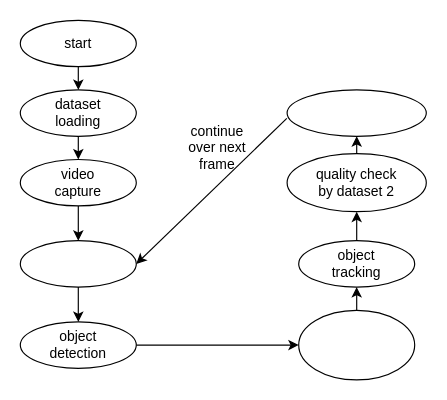
Some shapes in this 447 by 400 pixel diagram are drawn without their labels. The centre of each missing label's shape, as x and y in pixels:
"frame analysis" belongs at [77,263].
"quality check by correlation tracker" belongs at [356,344].
"speed calculation" belongs at [356,112].
